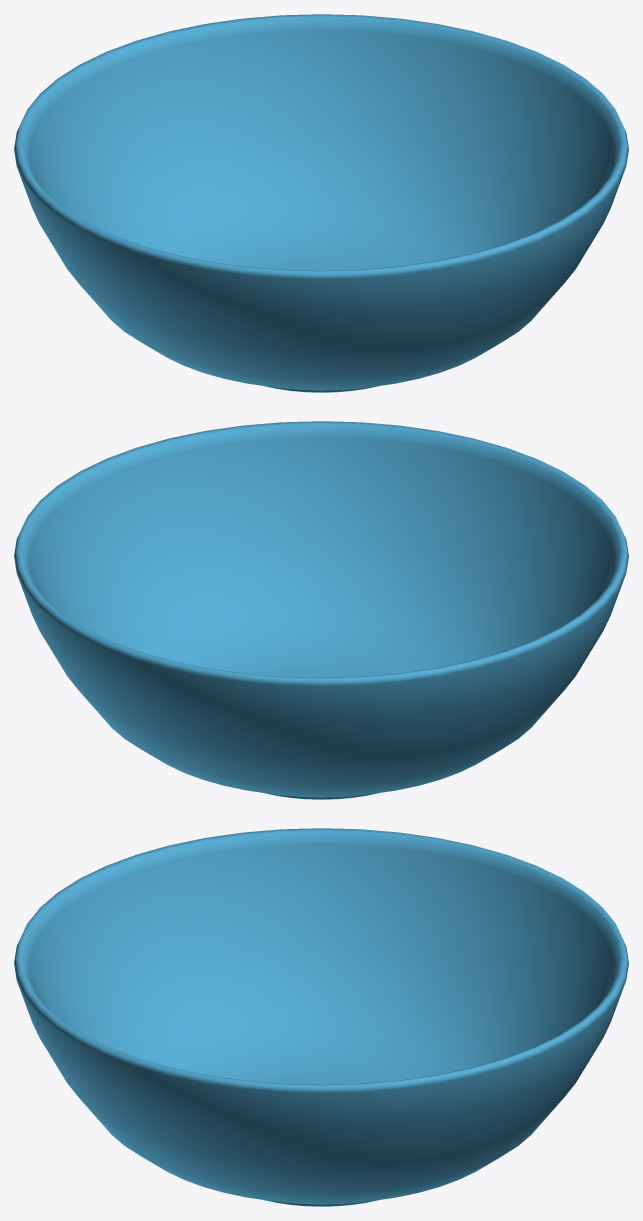
Rendered from bowl-collision.glb.
3 renders of one model, top to bottom at view 1: azimuth 30°, elevation 25°; view 2: azimuth 150°, elevation 25°; view 3: azimuth 270°, elevation 25°, orthographic.
Visible parts, largest first — view 1: Bowl_Collision; view 2: Bowl_Collision; view 3: Bowl_Collision.
Boxes of the visible parts, left/top/right/bottom form: Bowl_Collision: left=14, top=14, right=628, bottom=392; Bowl_Collision: left=14, top=421, right=628, bottom=799; Bowl_Collision: left=14, top=828, right=628, bottom=1206.
Bounding box in the file's own units: 0.36 × 0.1301 × 0.36.
